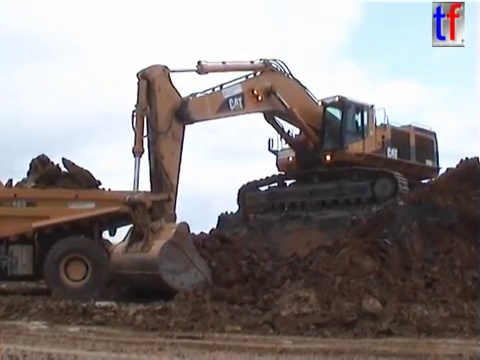excavator: (105, 55, 445, 299)
truck: (1, 178, 173, 303)
